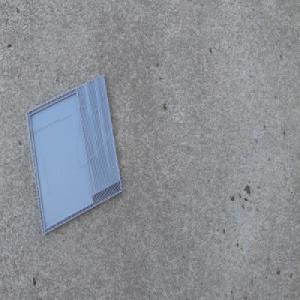PlasticPart: (24, 72, 123, 236)
